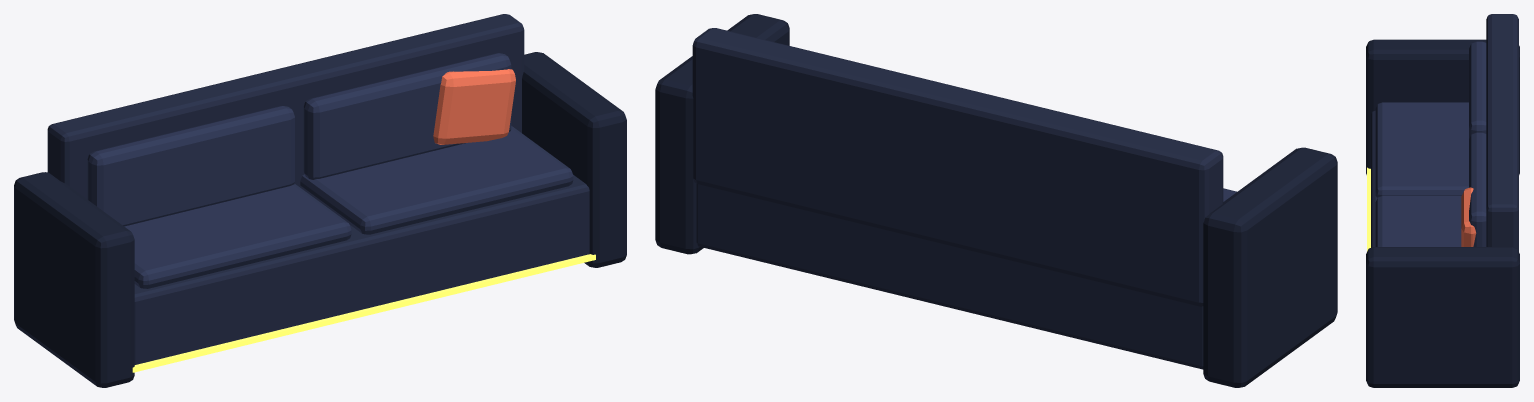
Rendered from couch.glb.
3 renders of one model, left to right at view 1: azimuth 30°, elevation 25°; view 2: azimuth 150°, elevation 25°; view 3: azimuth 270°, elevation 25°, orthographic. The views are drawn at different scales.
Parts seen in each view (by area): view 1: seat, back, arm-1, backcush-1, cushion1, cushion-1, arm1, backcush1, pillow, strip; view 2: back, seat, arm-1, arm1; view 3: arm1, cushion-1, back, arm-1, cushion1, backcush1, backcush-1, seat, pillow, strip.
Boxes of the visible parts, bbox=[...] form: seat: bbox=[134, 174, 589, 364]; back: bbox=[47, 14, 524, 199]; arm-1: bbox=[14, 172, 134, 387]; backcush-1: bbox=[87, 106, 294, 226]; cushion1: bbox=[300, 126, 573, 234]; cushion-1: bbox=[124, 183, 351, 288]; arm1: bbox=[522, 52, 626, 267]; backcush1: bbox=[303, 53, 511, 179]; pillow: bbox=[433, 69, 515, 144]; strip: bbox=[132, 254, 595, 372]; back: bbox=[692, 28, 1223, 306]; seat: bbox=[696, 184, 1203, 369]; arm-1: bbox=[1203, 147, 1337, 387]; arm1: bbox=[655, 14, 789, 254]; arm1: bbox=[1366, 247, 1519, 387]; cushion-1: bbox=[1375, 102, 1468, 198]; back: bbox=[1486, 14, 1518, 251]; arm-1: bbox=[1366, 39, 1519, 174]; cushion1: bbox=[1375, 196, 1461, 246]; backcush1: bbox=[1469, 132, 1486, 246]; backcush-1: bbox=[1469, 41, 1486, 138]; seat: bbox=[1371, 110, 1376, 247]; pillow: bbox=[1461, 187, 1476, 246]; strip: bbox=[1367, 167, 1370, 251].
Size of the model in its own units: 5.5 by 1.95 by 1.6.
